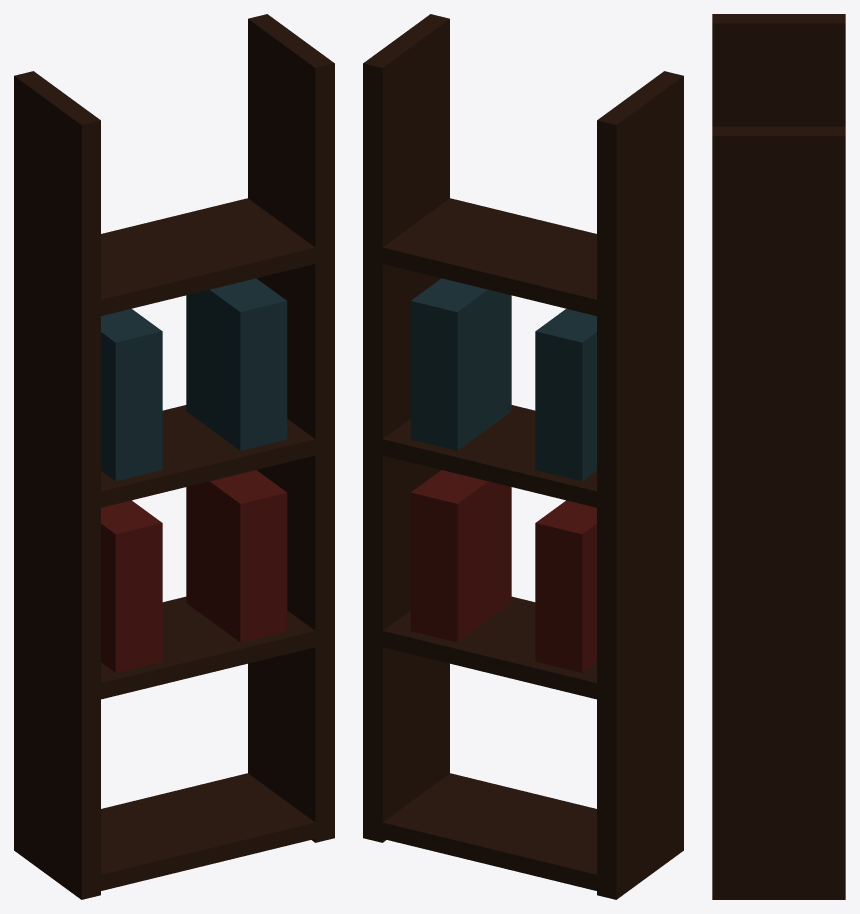
Rendered from raum_buecherwand.glb.
3 views of the same model, side by side, from view 1: azimuth 30°, elevation 25°; view 2: azimuth 150°, elevation 25°; view 3: azimuth 270°, elevation 25° (orthographic).
Parts seen in each view (by area): view 1: seite_l, seite_r, boden_3, boden_0, buch_buch_b_1, buch_buch_a_1, buch_buch_a_0, buch_buch_b_0, boden_1, boden_2; view 2: seite_l, seite_r, boden_3, boden_0, buch_buch_b_1, buch_buch_a_1, buch_buch_a_0, buch_buch_b_0, boden_1, boden_2; view 3: seite_r, seite_l, boden_3, boden_2.
Part boxes in pixels (left/top/right/bottom): seite_l: left=14, top=71, right=100, bottom=899; seite_r: left=248, top=14, right=334, bottom=842; boden_3: left=27, top=198, right=334, bottom=320; boden_0: left=82, top=773, right=334, bottom=895; buch_buch_b_1: left=186, top=278, right=287, bottom=450; buch_buch_a_1: left=186, top=470, right=287, bottom=642; buch_buch_a_0: left=101, top=500, right=162, bottom=672; buch_buch_b_0: left=101, top=309, right=162, bottom=481; boden_1: left=81, top=596, right=334, bottom=703; boden_2: left=81, top=405, right=320, bottom=512; seite_l: left=597, top=71, right=683, bottom=899; seite_r: left=363, top=14, right=449, bottom=842; boden_3: left=363, top=198, right=628, bottom=320; boden_0: left=363, top=773, right=606, bottom=893; buch_buch_b_1: left=410, top=278, right=511, bottom=450; buch_buch_a_1: left=410, top=470, right=511, bottom=642; buch_buch_a_0: left=535, top=500, right=596, bottom=672; buch_buch_b_0: left=535, top=309, right=596, bottom=481; boden_1: left=363, top=596, right=620, bottom=704; boden_2: left=363, top=405, right=626, bottom=511; seite_r: left=712, top=126, right=845, bottom=899; seite_l: left=712, top=14, right=845, bottom=126; boden_3: left=712, top=313, right=845, bottom=328; boden_2: left=712, top=502, right=845, bottom=517.
Size of the model in its own units: 0.65 by 1.9 by 0.3.
